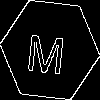M: (25, 25, 68, 75)
